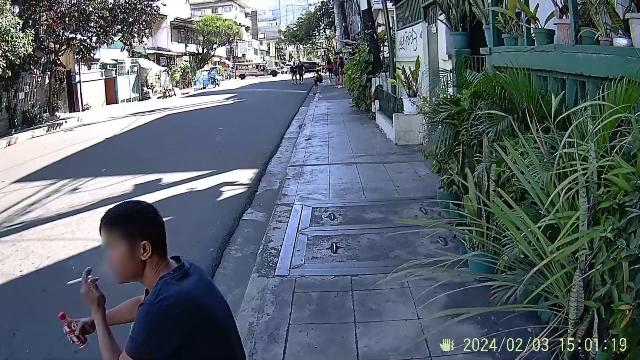potted_plant: (396, 57, 426, 115)
